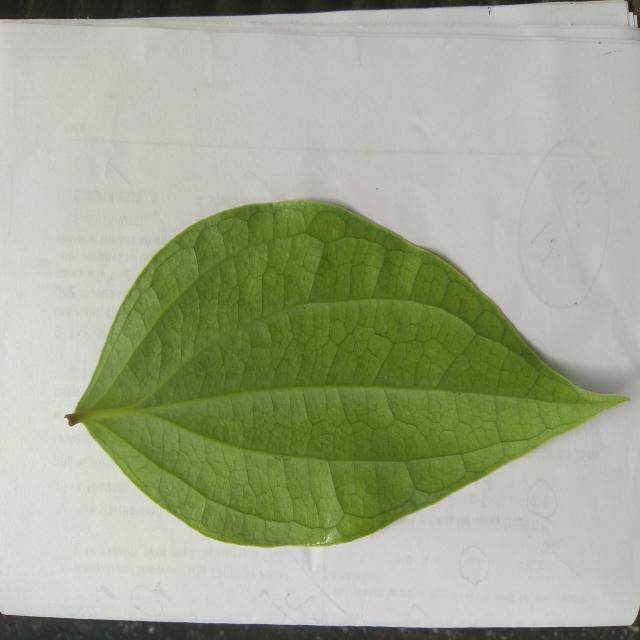pepper: (68, 202, 626, 547)
